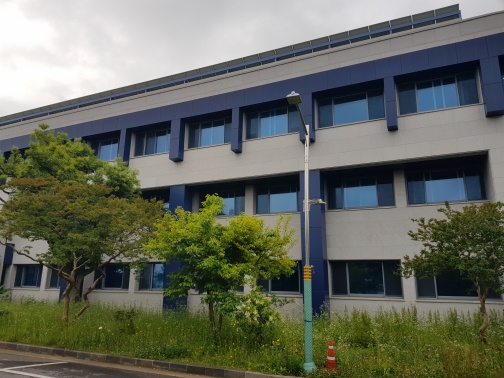College of Social Sciences: (13, 9, 504, 321), (171, 46, 399, 146)
